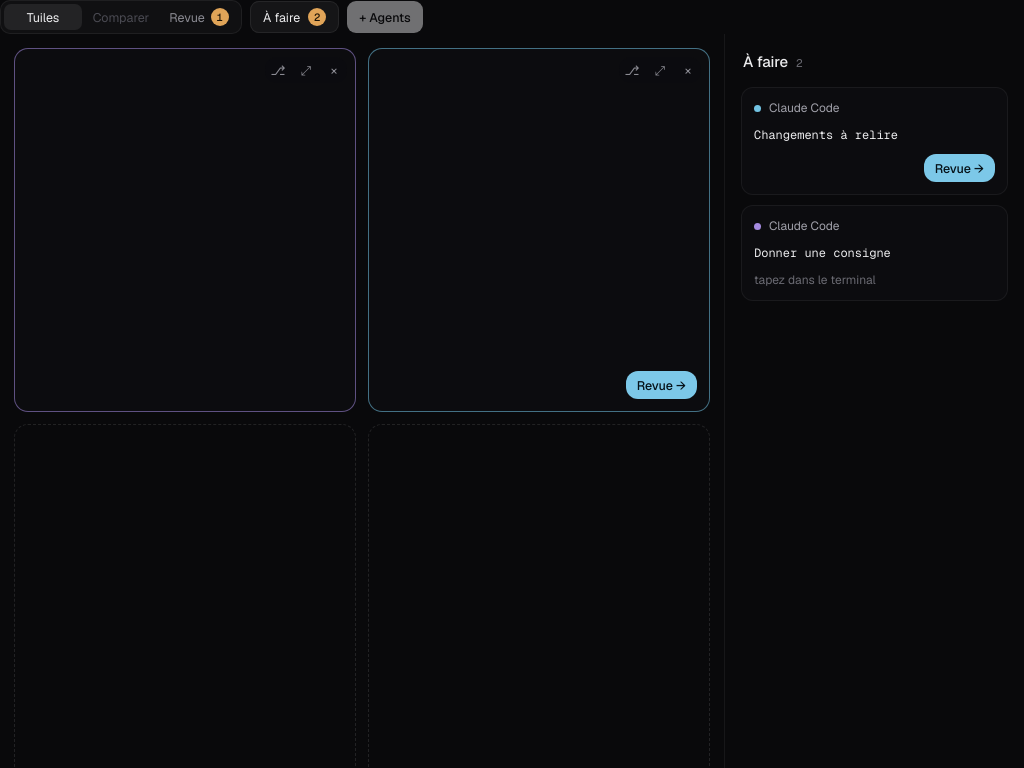
Scenario: Review (002 T018, US1) › follows the agent picked from the pills, and leaves the Terminal tab without closing the Focus
The image size is (1024, 768).
Step 1. Click the 2nd button "Revue →" → (661, 385), box [626,371,697,399]
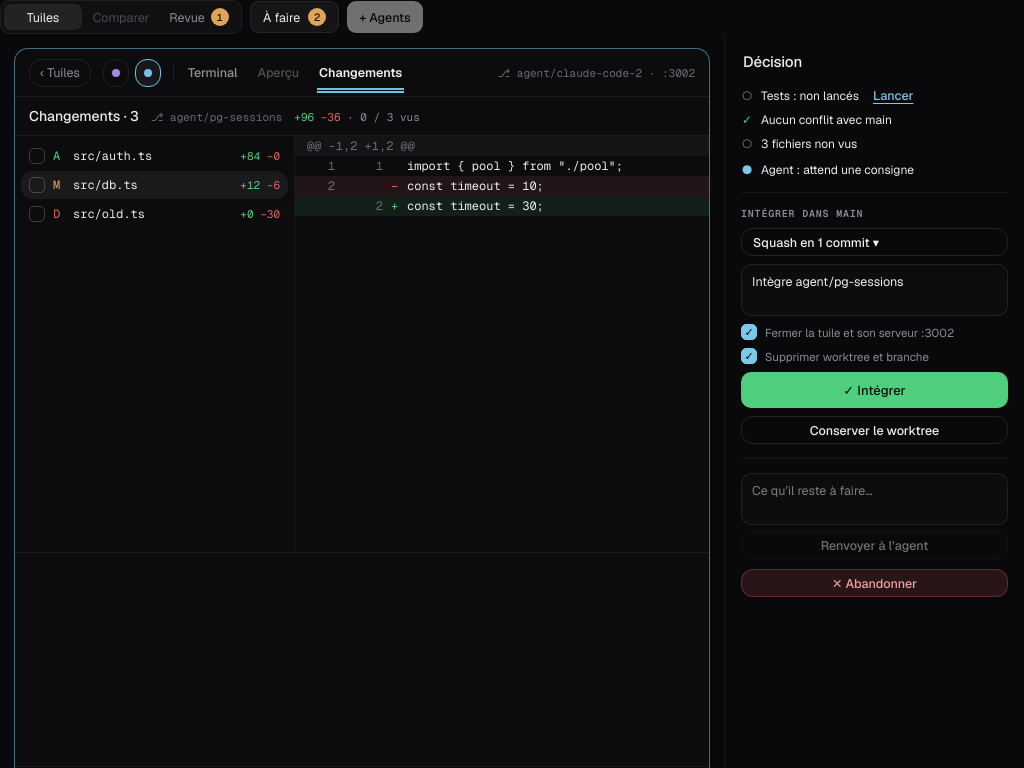
Step 2. Click the radio button named "Claude Code 1" → (116, 72), box [103,58,129,86]
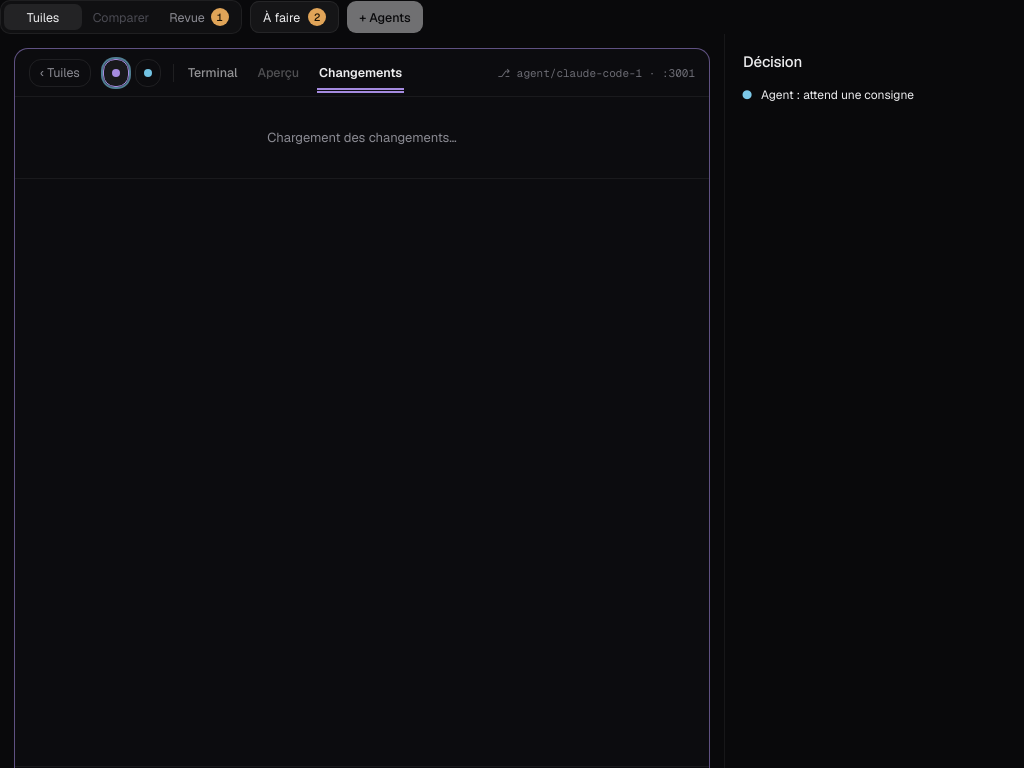
Step 3. Click the tab "Terminal" → (213, 72), box [186,55,240,90]
(page scrolled)
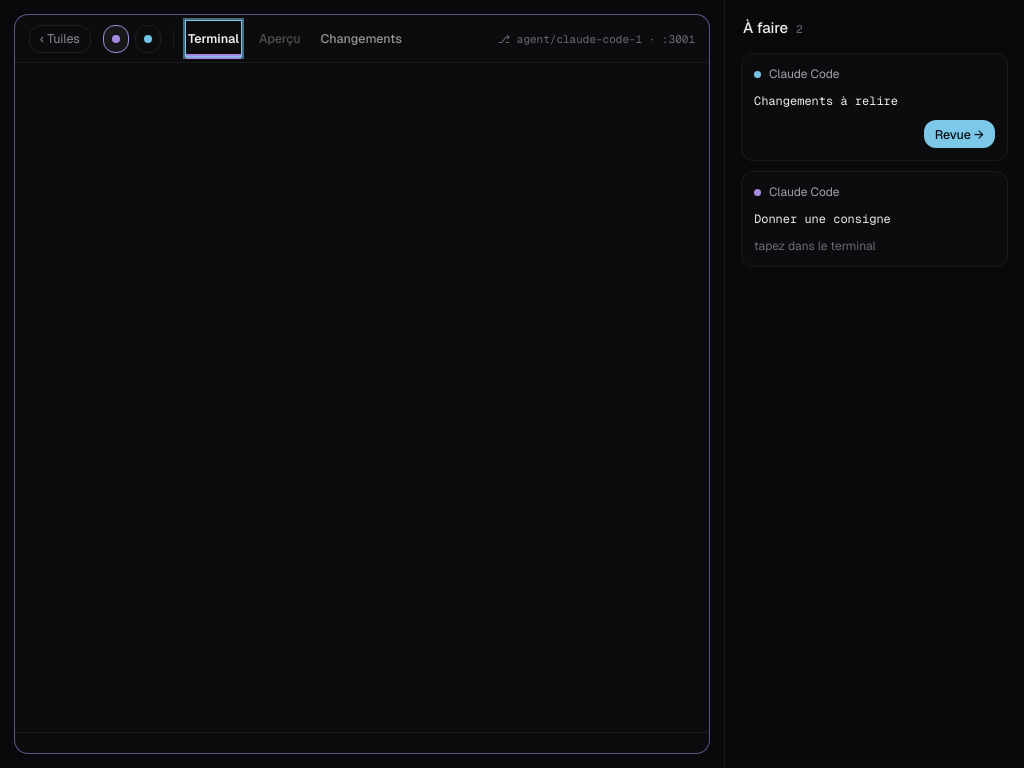
Check: the element "À faire" is shown, box [724,0,1023,767]
